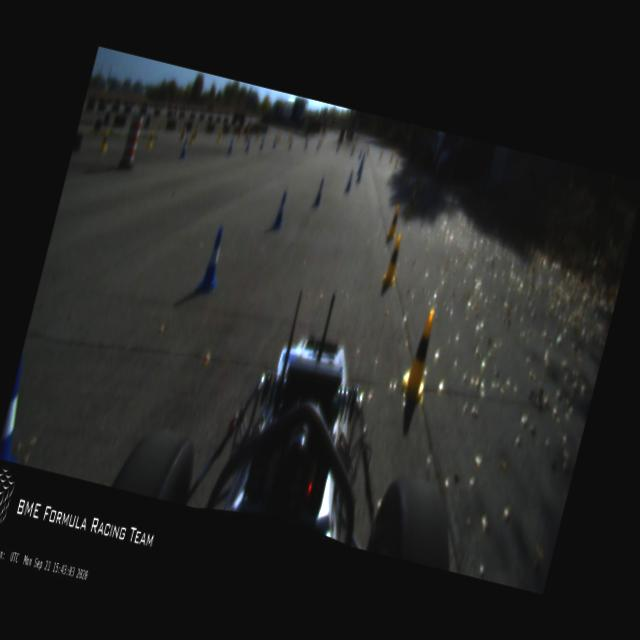blue_cone: (0, 350, 43, 462), (194, 224, 230, 296), (272, 190, 290, 230), (312, 177, 326, 209), (344, 170, 354, 193), (180, 138, 188, 158), (355, 165, 363, 182), (244, 136, 252, 152), (227, 138, 234, 154), (357, 160, 363, 174), (272, 134, 277, 148), (358, 147, 363, 158), (260, 136, 264, 148), (288, 136, 292, 148), (304, 138, 308, 150), (316, 138, 320, 149), (350, 144, 354, 155), (336, 142, 340, 151)
yellow_cone: (396, 308, 444, 405), (380, 232, 406, 288), (384, 203, 402, 242), (404, 190, 418, 218), (99, 128, 112, 156), (144, 128, 156, 150), (416, 185, 424, 203), (188, 128, 196, 144), (215, 127, 222, 143), (412, 177, 419, 193), (406, 168, 412, 181), (276, 129, 282, 141), (236, 130, 242, 140), (255, 130, 260, 141), (288, 128, 292, 140), (388, 154, 392, 164), (304, 134, 308, 144), (366, 145, 370, 154), (394, 157, 398, 165), (380, 150, 382, 158)
